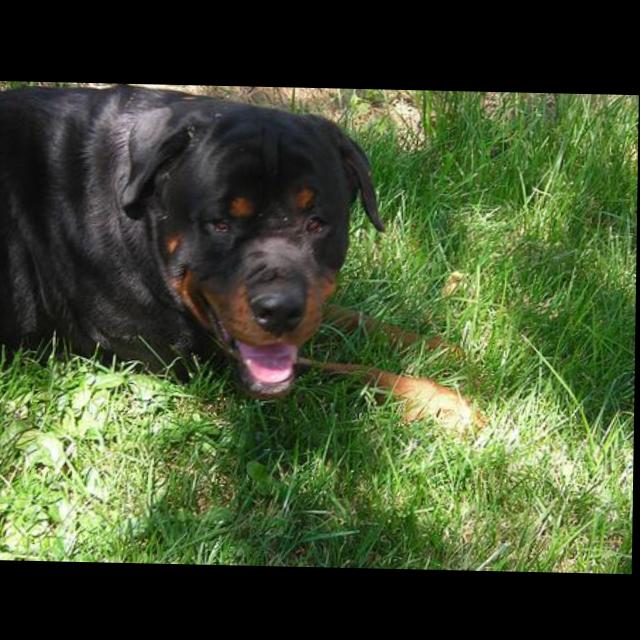rottweiler: (1, 81, 494, 438)
